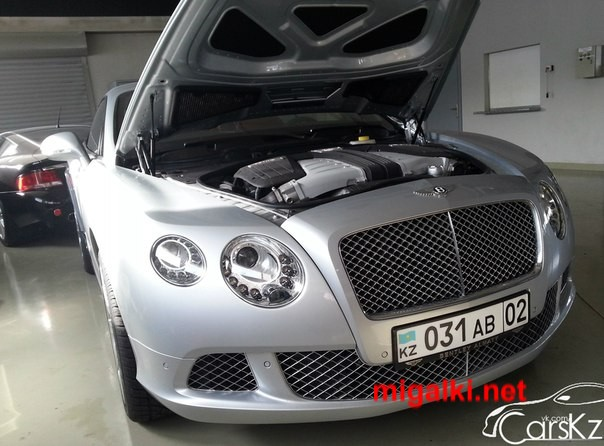license_plate: (388, 287, 530, 362)
